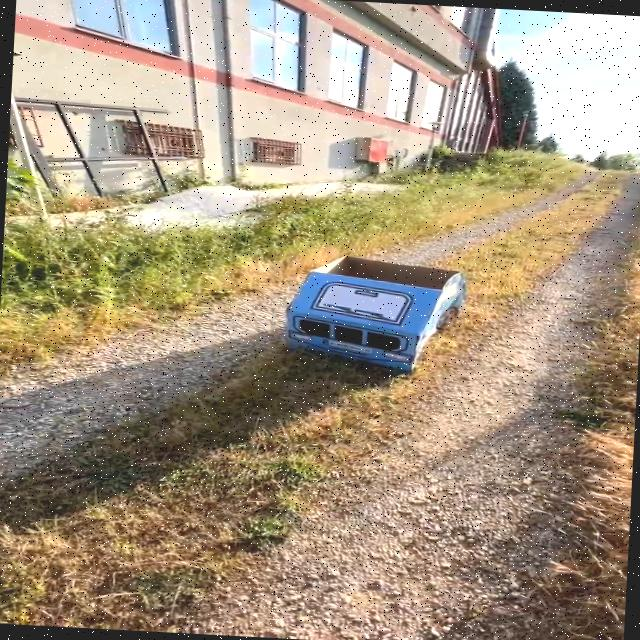blue_car: (228, 227, 524, 417)
